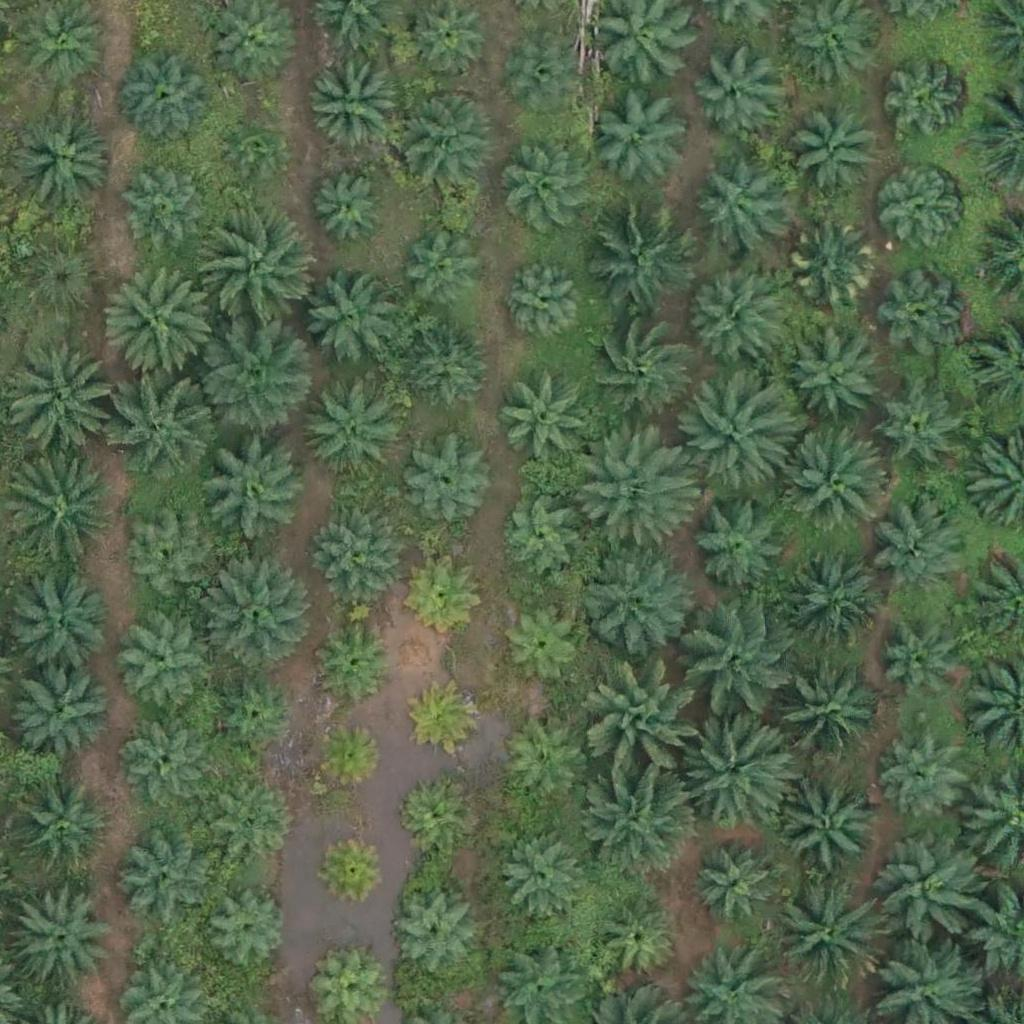Kelapa_Sawit: (768, 660, 881, 774), (2, 345, 115, 459), (769, 879, 882, 992), (685, 606, 798, 719), (584, 764, 697, 877), (197, 322, 310, 435), (198, 432, 311, 545), (199, 555, 312, 668), (108, 368, 221, 481), (104, 264, 217, 377), (874, 837, 987, 950), (684, 383, 796, 497), (590, 668, 702, 782), (585, 207, 697, 321), (204, 212, 316, 326), (781, 429, 893, 542), (680, 711, 792, 824), (577, 542, 689, 655), (577, 427, 689, 540), (581, 314, 693, 427), (11, 883, 111, 984), (780, 776, 880, 877), (786, 327, 886, 428), (685, 488, 785, 589), (597, 88, 697, 189), (496, 372, 596, 473), (391, 88, 491, 189), (300, 376, 400, 477), (118, 48, 218, 149), (10, 105, 110, 206), (7, 575, 107, 676), (12, 658, 112, 759), (11, 775, 111, 876), (118, 827, 218, 928), (874, 498, 974, 598), (781, 554, 881, 654), (680, 270, 780, 370), (305, 55, 405, 155), (299, 271, 399, 371), (498, 258, 586, 347), (592, 897, 680, 985), (387, 890, 475, 978), (209, 670, 297, 758), (209, 788, 297, 876), (690, 48, 778, 136), (691, 164, 779, 252), (692, 842, 780, 930), (506, 148, 594, 236), (400, 221, 488, 309), (12, 238, 100, 326), (495, 598, 583, 686), (500, 721, 588, 809), (119, 626, 207, 714), (120, 718, 208, 806), (121, 169, 209, 257), (205, 886, 292, 974), (881, 62, 968, 150), (878, 171, 965, 259), (881, 270, 968, 358), (878, 387, 965, 475), (878, 631, 965, 719), (883, 736, 970, 824), (788, 223, 875, 311), (787, 108, 874, 196), (403, 326, 490, 414), (498, 496, 585, 584), (499, 830, 586, 918), (313, 506, 400, 594), (400, 437, 487, 525), (125, 515, 212, 603), (213, 1, 300, 89), (310, 171, 385, 247), (394, 776, 469, 852), (510, 38, 585, 114), (316, 829, 391, 905), (409, 680, 484, 756), (319, 622, 394, 697), (311, 719, 386, 794), (409, 558, 484, 633), (221, 115, 283, 178)
